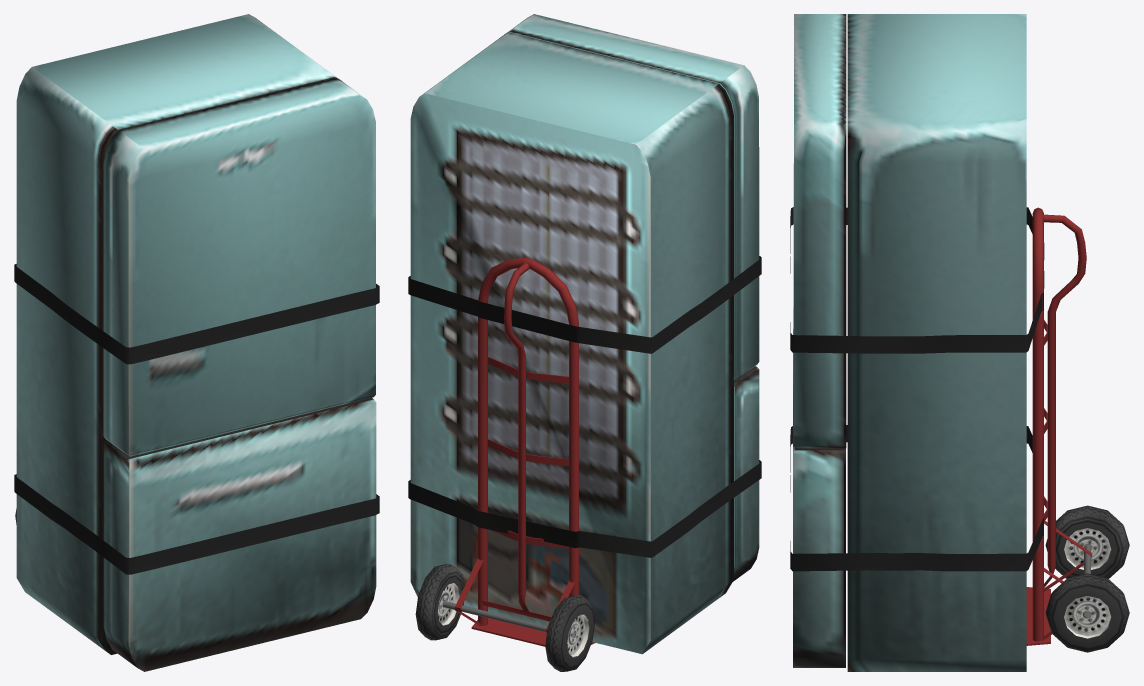
The model's file is PA_Fridge2.fbx.
The picture shows the model from 3 angles, left to right: view 1: azimuth 30°, elevation 25°; view 2: azimuth 150°, elevation 25°; view 3: azimuth 270°, elevation 25°; orthographic projection. The views are drawn at different scales.
Visible parts, largest first — view 1: PA_Fridge2_teal; view 2: PA_Fridge2_teal; view 3: PA_Fridge2_teal.
Part boxes in pixels (x1,y1,x2,y2): PA_Fridge2_teal: (14, 14, 379, 671); PA_Fridge2_teal: (408, 14, 761, 671); PA_Fridge2_teal: (790, 14, 1129, 671).
Size of the model in its own units: 0.5385 by 1.07 by 0.6014.
